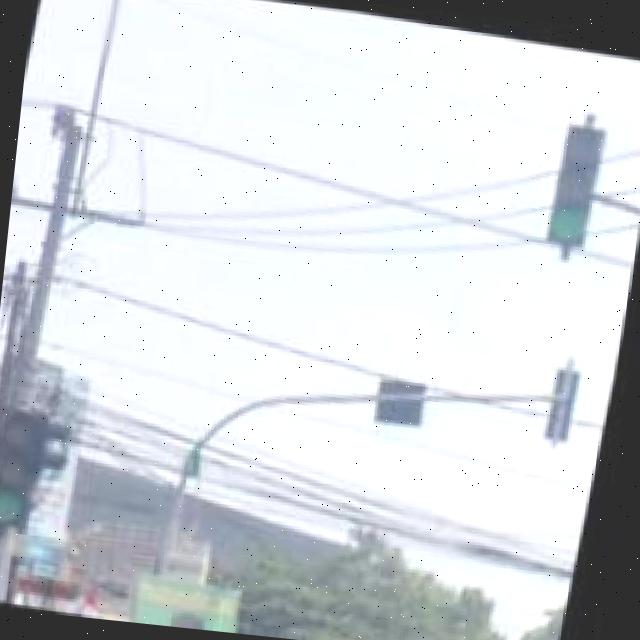green_light: (540, 124, 606, 253), (0, 399, 58, 531)
